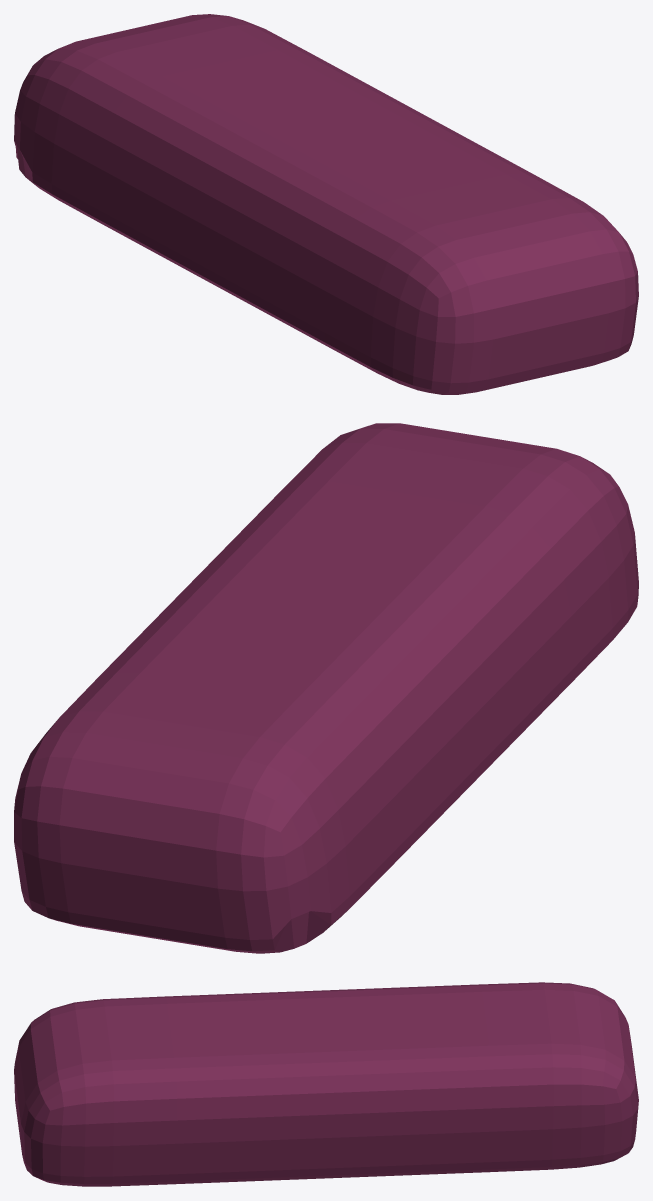
File: Bush2.fbx
3 views of the same model, one above another, from view 1: azimuth 30°, elevation 25°; view 2: azimuth 150°, elevation 25°; view 3: azimuth 270°, elevation 25° (orthographic). The views are drawn at different scales.
Visible parts, largest first — view 1: Bush2; view 2: Bush2; view 3: Bush2.
Part boxes in pixels (x1=…): Bush2: x1=14, y1=14, x2=638, y2=394; Bush2: x1=14, y1=423, x2=638, y2=953; Bush2: x1=14, y1=982, x2=638, y2=1186.
Size of the model in its own units: 1.49 by 0.7357 by 3.25.
